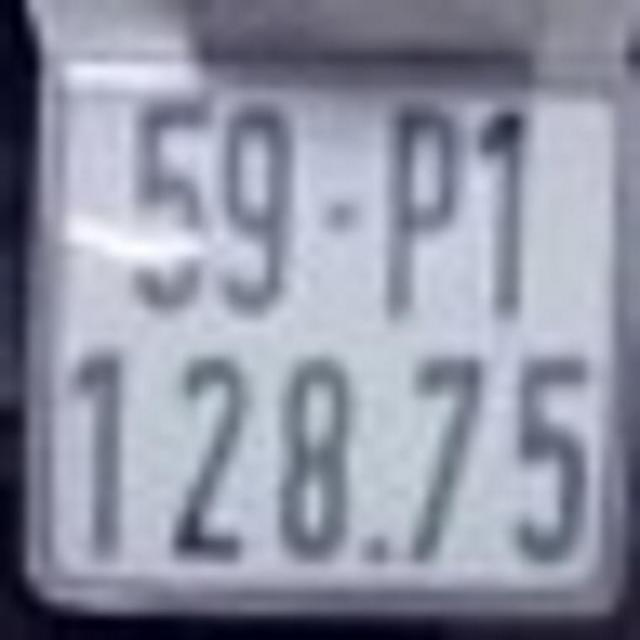1: (69, 346, 123, 559), (472, 108, 523, 327)
2: (170, 356, 250, 562)
5: (514, 353, 592, 568), (131, 95, 208, 300)
7: (408, 354, 481, 565)
8: (280, 351, 348, 562)
9: (218, 103, 297, 315)
P: (388, 97, 457, 328)
